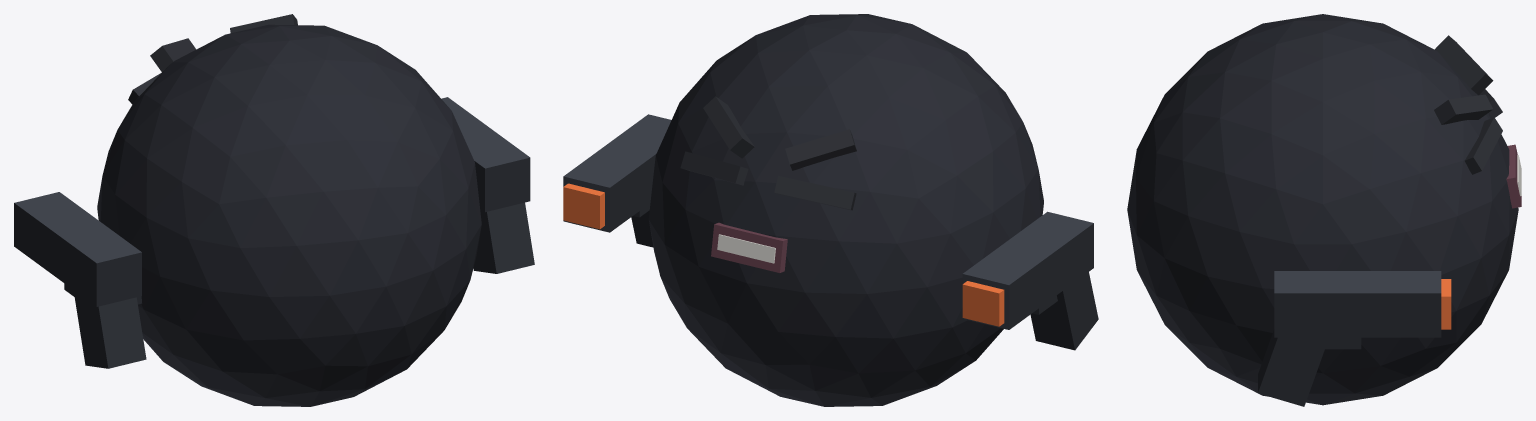
File: CH_Mermo_T4_Blink.fbx
3 renders of one model, left to right at view 1: azimuth 30°, elevation 25°; view 2: azimuth 150°, elevation 25°; view 3: azimuth 270°, elevation 25°, orthographic. The views are drawn at different scales.
Parts seen in each view (by area): view 1: CH_Mermo_T4_Blink; view 2: CH_Mermo_T4_Blink; view 3: CH_Mermo_T4_Blink.
Part boxes in pixels (<box>): CH_Mermo_T4_Blink: <box>14,14,534,406</box>; CH_Mermo_T4_Blink: <box>563,14,1098,406</box>; CH_Mermo_T4_Blink: <box>1127,14,1521,406</box>.
Size of the model in its own units: 1.29 by 1 by 1.01.
